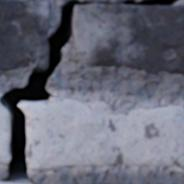brick: (72, 4, 183, 74), (0, 0, 49, 69), (0, 181, 23, 183)
broken_brick: (18, 96, 183, 169), (0, 103, 10, 163)
crack: (0, 0, 92, 183), (118, 0, 178, 5), (96, 2, 112, 4)
